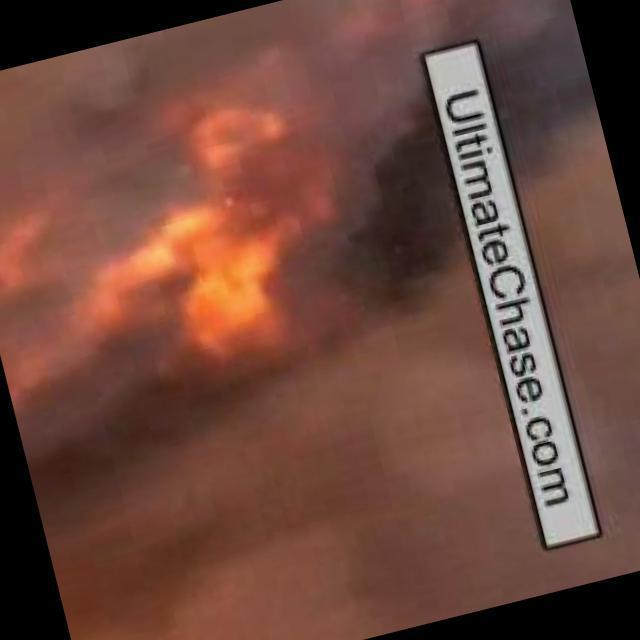Fire: (1, 67, 409, 463), (387, 1, 488, 21)
